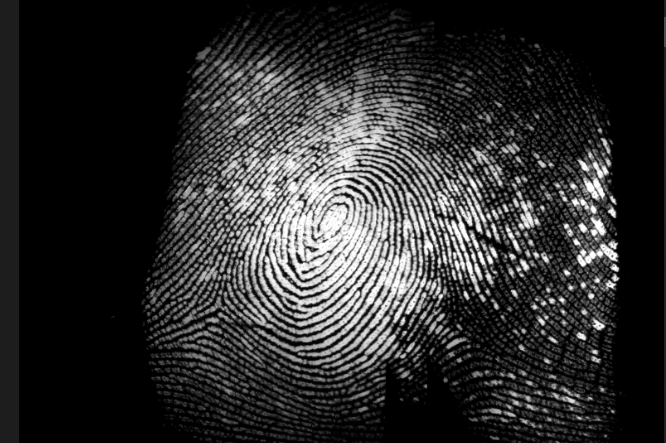deltas: (435, 299, 479, 349), (197, 288, 241, 332)
nucleo: (309, 194, 355, 250)
